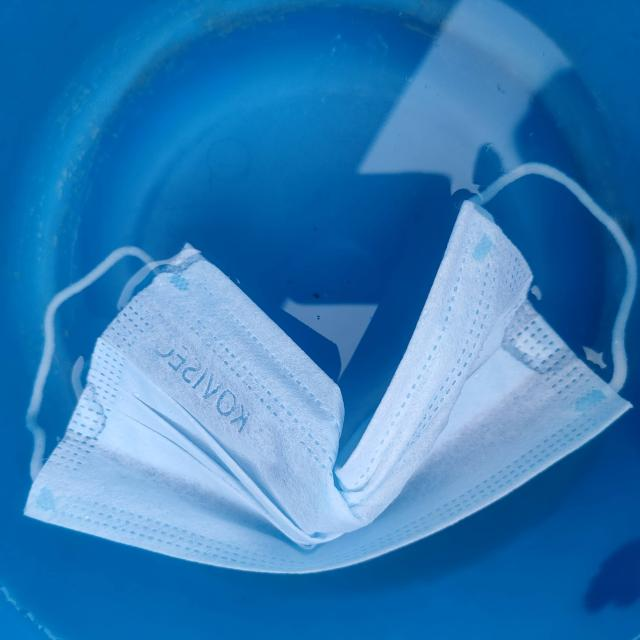mask: (13, 208, 640, 581)
